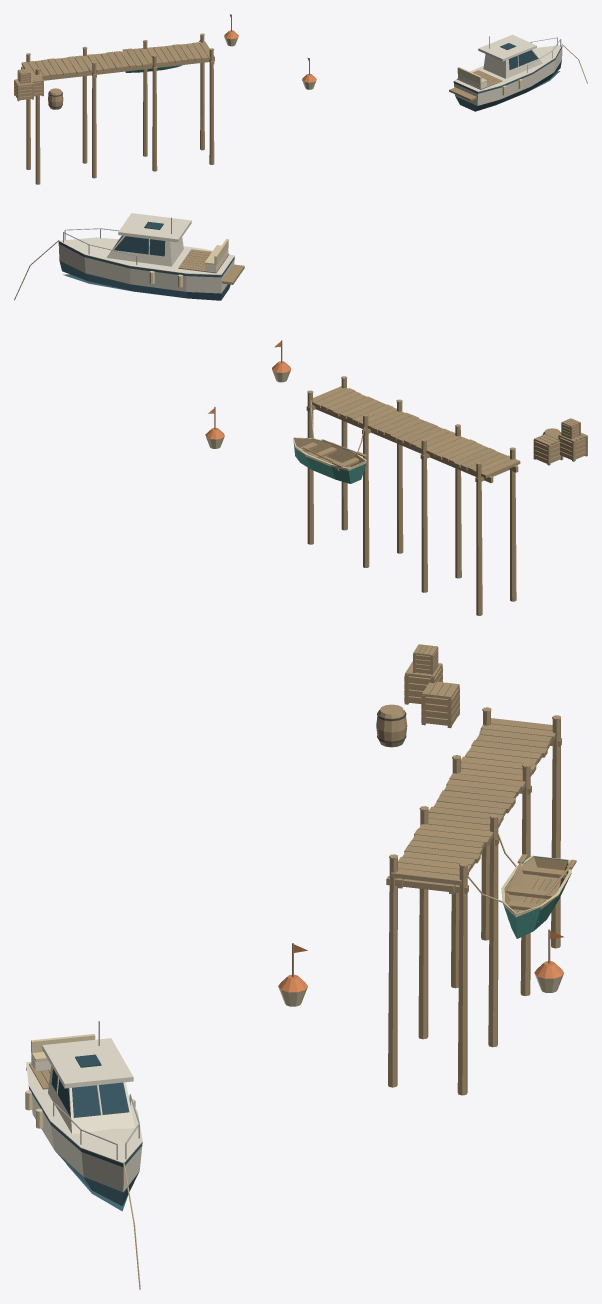
The model's file is props-palm-cove.glb.
3 views of the same model, one above another, from view 1: azimuth 30°, elevation 25°; view 2: azimuth 150°, elevation 25°; view 3: azimuth 270°, elevation 25° (orthographic). The views are drawn at different scales.
Visible parts, largest first — view 1: Jetty, Offshore_yacht, Landing_crates, Landing_barrel; view 2: Jetty, Offshore_yacht, Moored_boat, Landing_crates; view 3: Jetty, Offshore_yacht, Moored_boat, Landing_crates, Landing_barrel, Fishing_buoy_1, Fishing_buoy_2.
Boxes of the visible parts, <box> form: Jetty: <box>21,33,214,184</box>; Offshore_yacht: <box>449,34,587,111</box>; Landing_crates: <box>14,69,43,101</box>; Landing_barrel: <box>48,88,63,109</box>; Jetty: <box>306,376,520,615</box>; Offshore_yacht: <box>14,213,244,300</box>; Moored_boat: <box>293,437,367,483</box>; Landing_crates: <box>533,418,587,465</box>; Jetty: <box>386,707,561,1095</box>; Offshore_yacht: <box>25,1021,142,1289</box>; Moored_boat: <box>501,854,576,938</box>; Landing_crates: <box>404,644,459,728</box>; Landing_barrel: <box>376,704,407,747</box>; Fishing_buoy_1: <box>534,929,564,992</box>; Fishing_buoy_2: <box>278,943,307,1006</box>.
Bounding box in the file's own units: 41.67 × 10.45 × 19.82.
